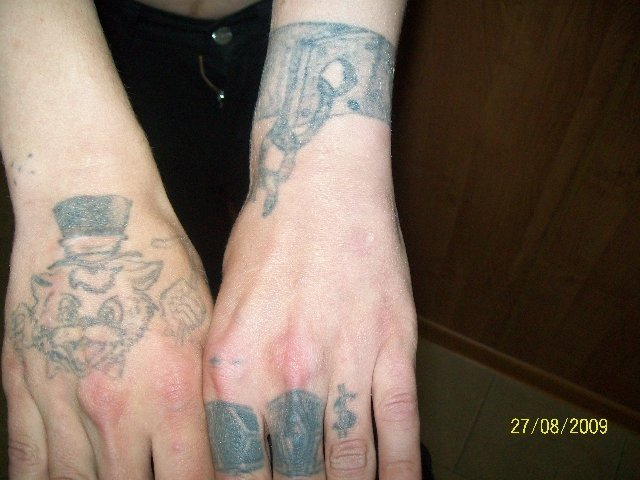tatu8_kot: (8, 179, 212, 379)
